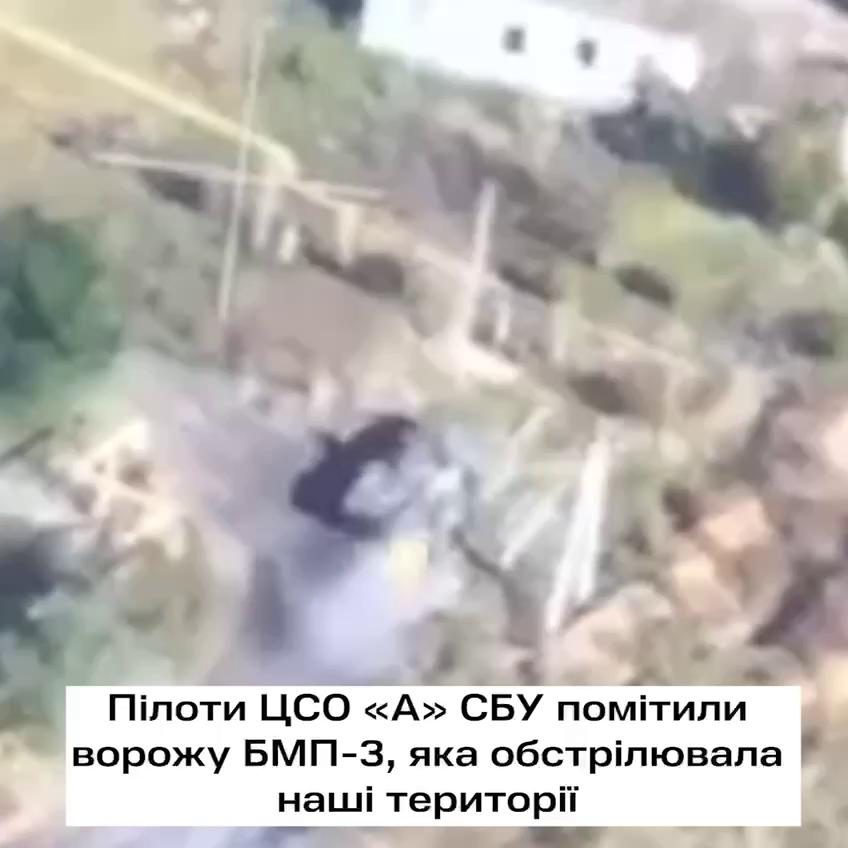tank: (335, 417, 494, 574)
